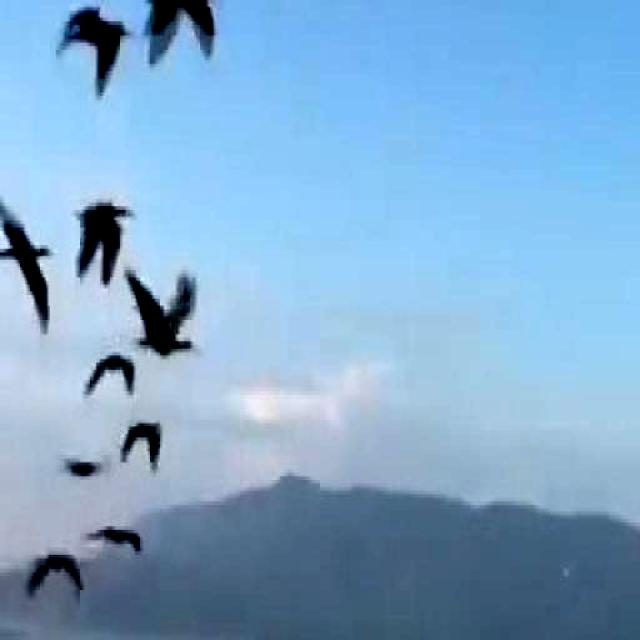airplane: (51, 0, 135, 101), (0, 188, 55, 339), (124, 261, 204, 358), (70, 192, 131, 285), (141, 0, 220, 68), (21, 548, 86, 604), (120, 412, 164, 474), (82, 351, 136, 399), (82, 520, 144, 555), (59, 451, 110, 485)
